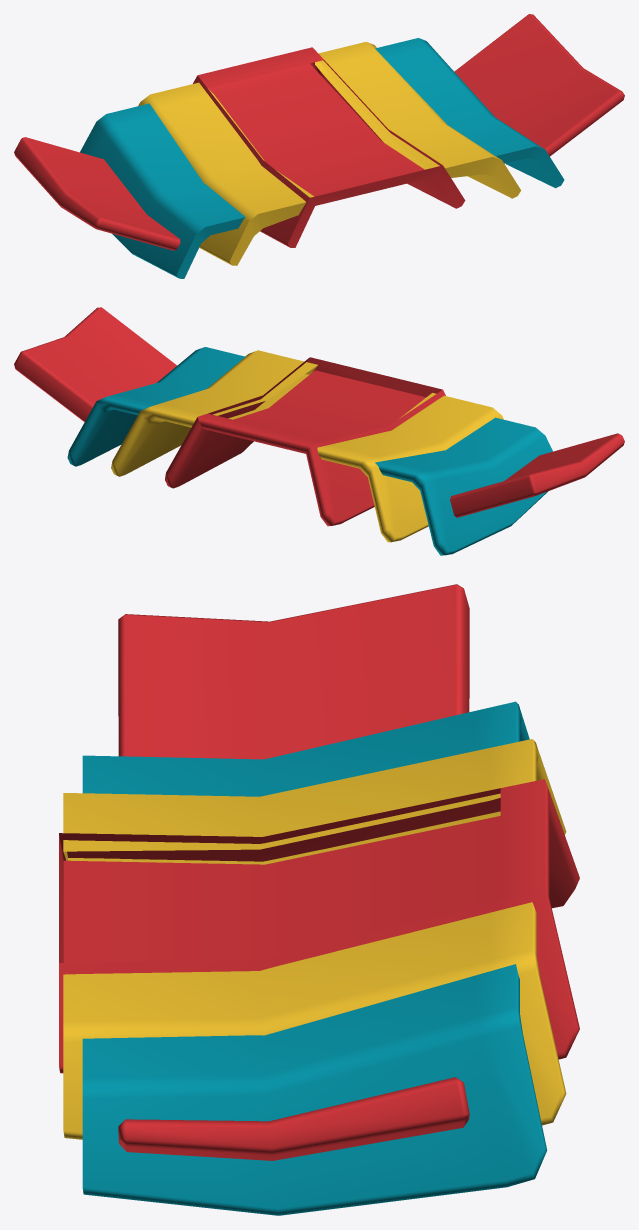
File: Car_09_RearBumper_Cool.fbx
The picture shows the model from 3 angles, top to bottom: view 1: azimuth 30°, elevation 25°; view 2: azimuth 150°, elevation 25°; view 3: azimuth 270°, elevation 25°; orthographic projection. The views are drawn at different scales.
Parts seen in each view (by area): view 1: Car_09_RearBumper_Cool; view 2: Car_09_RearBumper_Cool; view 3: Car_09_RearBumper_Cool.
Boxes of the visible parts, x1,y1,x2,y2 form: Car_09_RearBumper_Cool: (14, 14, 624, 278); Car_09_RearBumper_Cool: (14, 307, 624, 555); Car_09_RearBumper_Cool: (59, 584, 579, 1215).
Bounding box in the file's own units: 148 × 62.81 × 26.96.
